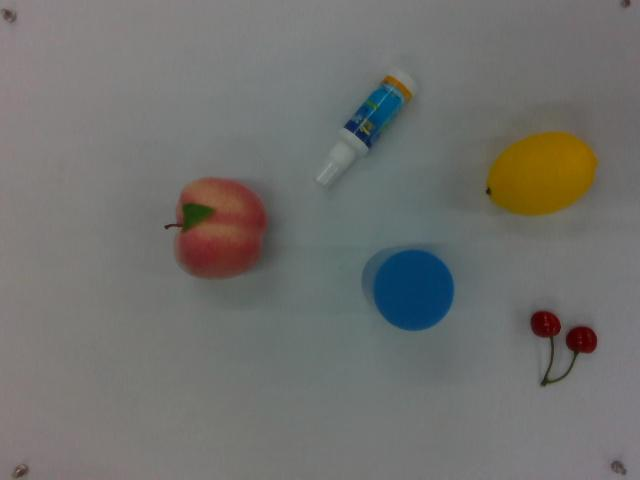cherry: (526, 308, 601, 395)
cylinder: (362, 245, 458, 336)
detergent: (308, 62, 423, 193)
lemon: (481, 125, 598, 221)
peach: (166, 177, 269, 282)
